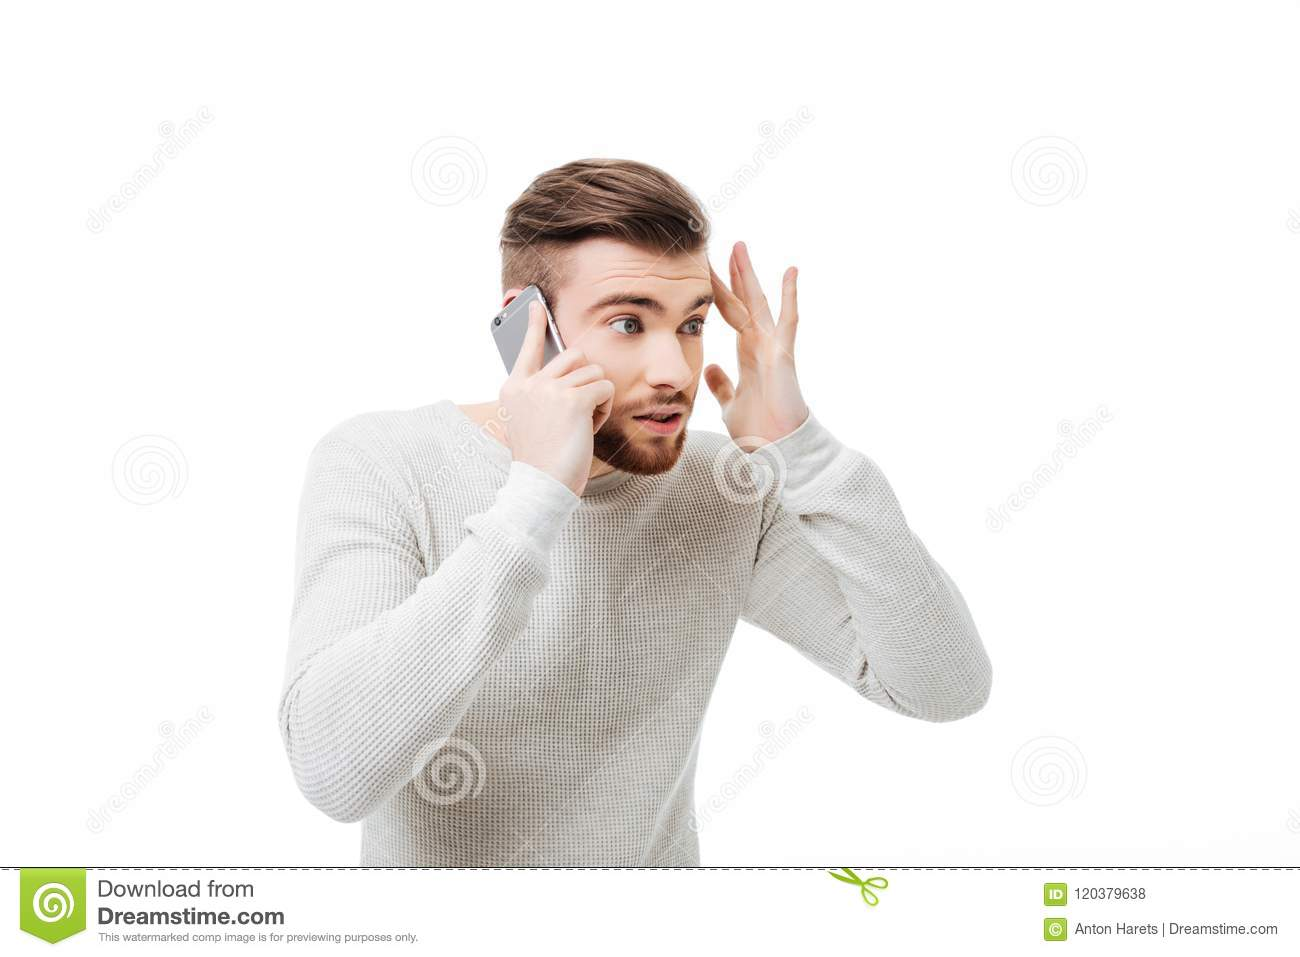phone: (493, 294, 585, 418)
talk: (489, 285, 709, 499)
